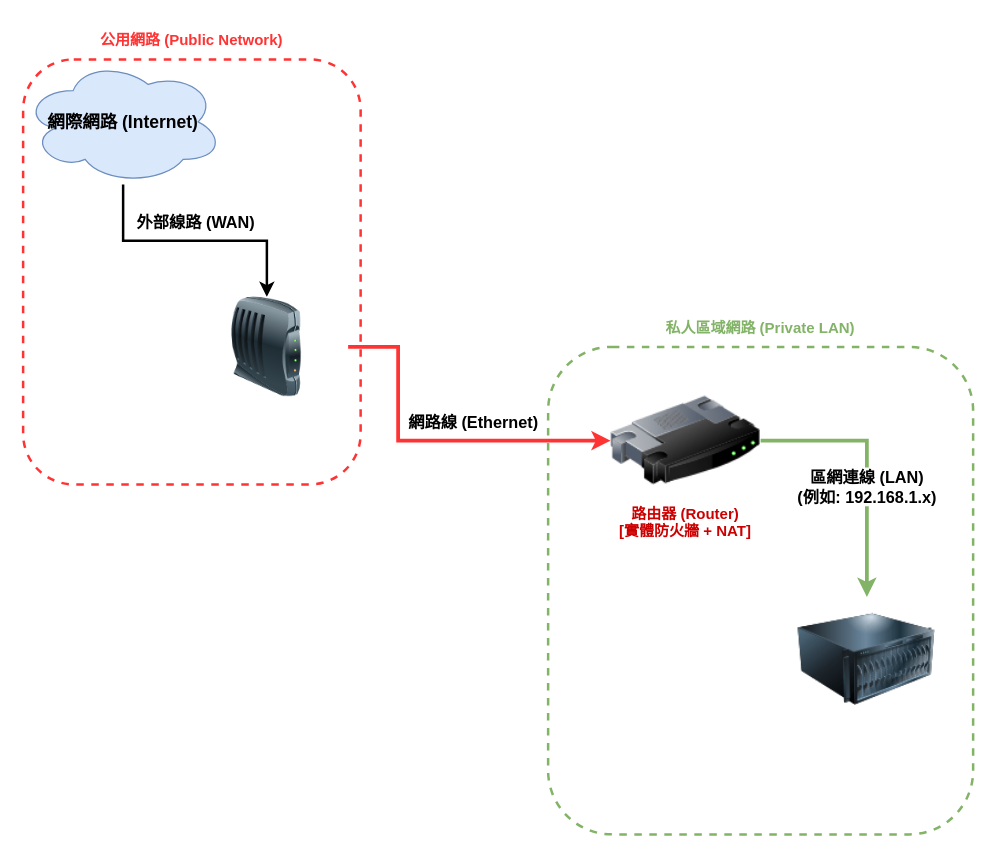
The diagram is 995 pixels wide and 856 high, and some of its shapes have lost their labels. Here are the shapes that lost their labels. From the top down, the centre of each, then its label:
At (266,346): "中華電信數據機 (VDSL / 光纖小烏龜)".
At (866,658): "伺服器 (Server) [軟體防火牆 UFW ]".
